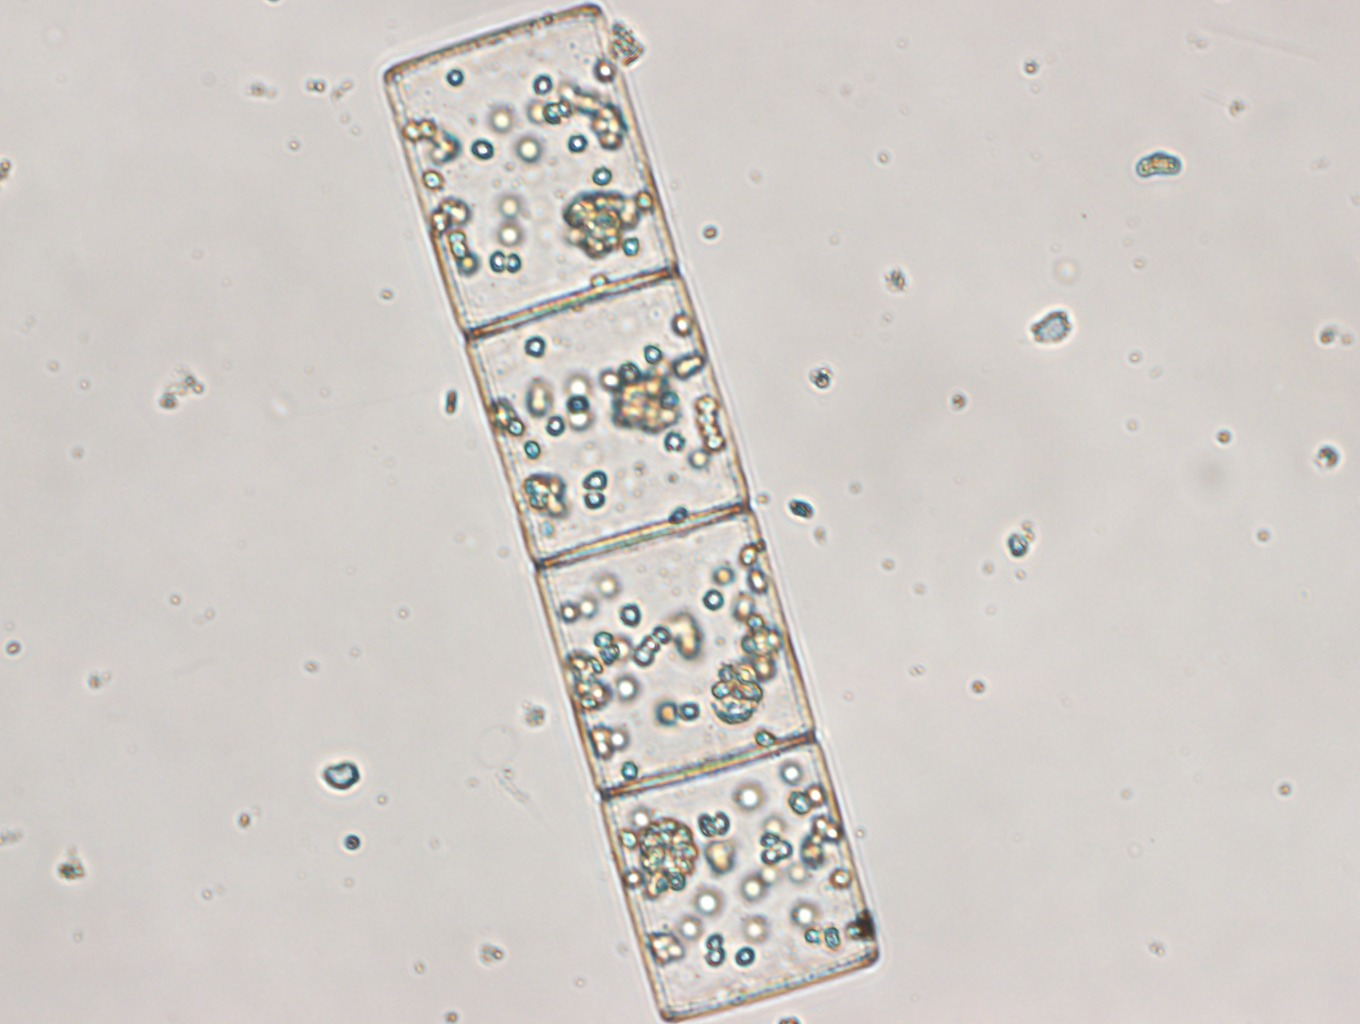guinardia flaccida: (380, 1, 881, 1024)
